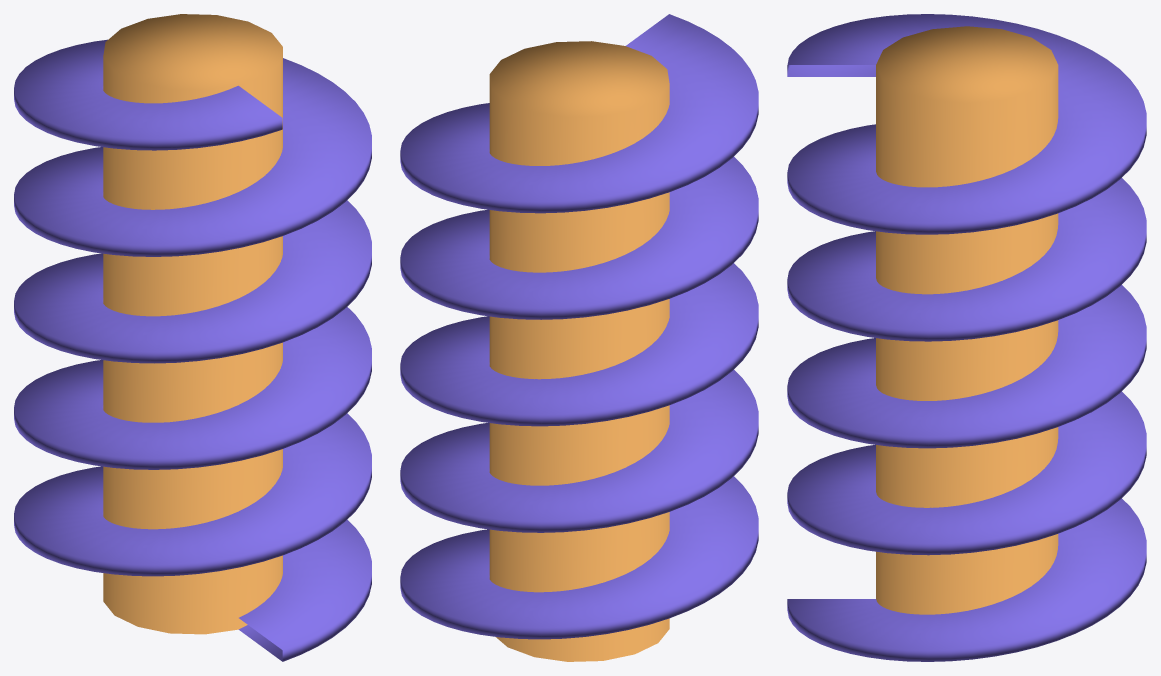
The model's file is twistedPlatform3.fbx.
The picture shows the model from 3 angles, left to right: view 1: azimuth 30°, elevation 25°; view 2: azimuth 150°, elevation 25°; view 3: azimuth 270°, elevation 25°; orthographic projection.
Parts seen in each view (by area): view 1: Vert.001, Vert.002; view 2: Vert.001, Vert.002; view 3: Vert.001, Vert.002.
Boxes of the visible parts, <box> form: Vert.001: <box>14,39,371,661</box>; Vert.002: <box>103,14,282,634</box>; Vert.001: <box>400,14,758,639</box>; Vert.002: <box>489,41,669,661</box>; Vert.001: <box>787,14,1146,661</box>; Vert.002: <box>876,26,1058,614</box>.
Size of the model in its own units: 396 by 665 by 396.
